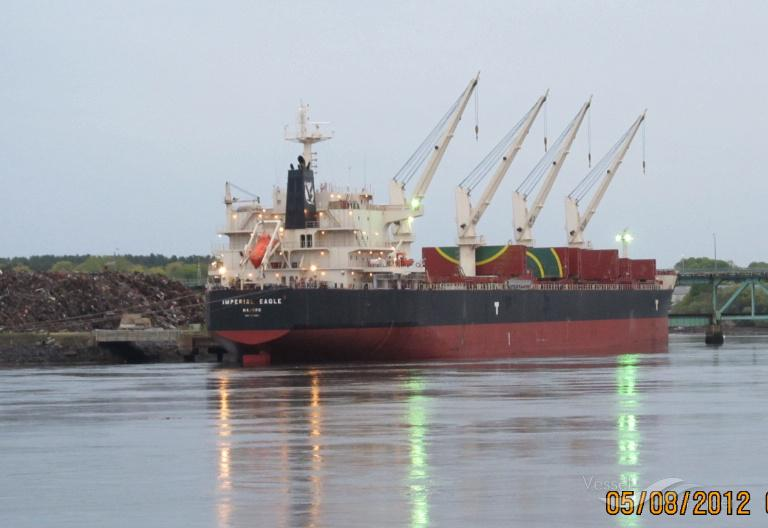OCR: (219, 294, 289, 320)
